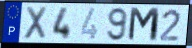2: (159, 8, 183, 43)
4: (51, 6, 74, 42), (80, 7, 99, 41)
9: (105, 7, 128, 43)
M: (126, 6, 162, 44)
X: (22, 5, 50, 41)
